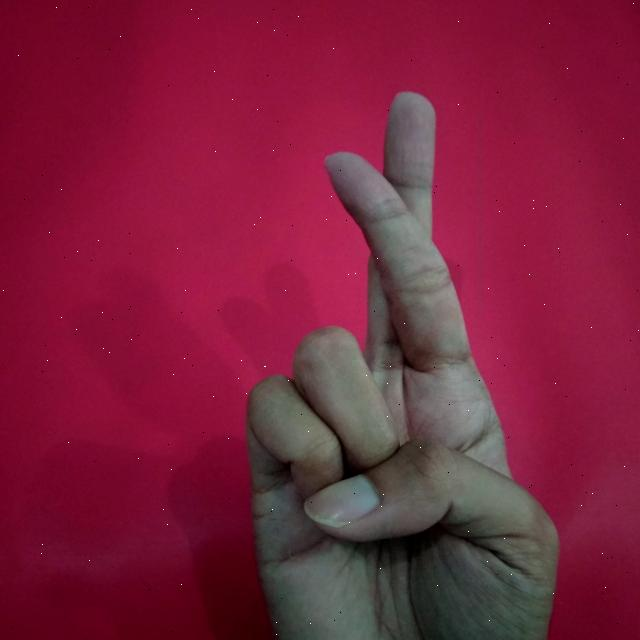R: (239, 84, 564, 640)
